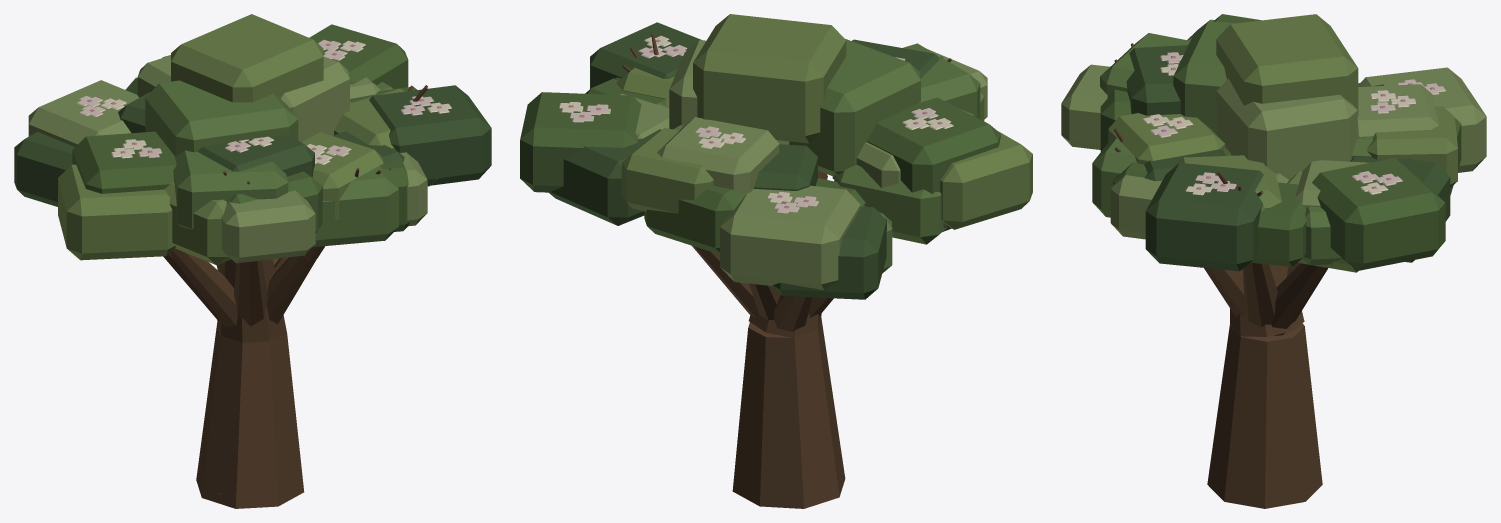
File: apple_mature_spring.glb
3 renders of one model, left to right at view 1: azimuth 30°, elevation 25°; view 2: azimuth 150°, elevation 25°; view 3: azimuth 270°, elevation 25°, orthographic. The views are drawn at different scales.
Parts seen in each view (by area): view 1: apple_mature_spring; view 2: apple_mature_spring; view 3: apple_mature_spring.
Boxes of the visible parts, box(x1,y1,x2,y2) form: apple_mature_spring: box(14, 14, 491, 508); apple_mature_spring: box(520, 14, 1032, 508); apple_mature_spring: box(1061, 14, 1486, 508).
Bounding box in the file's own units: 11.9 × 12 × 10.33.
